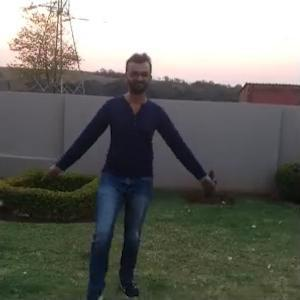land: (24, 56, 225, 288)
